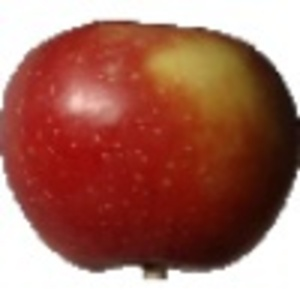maçã braeburn: (1, 17, 299, 273)
